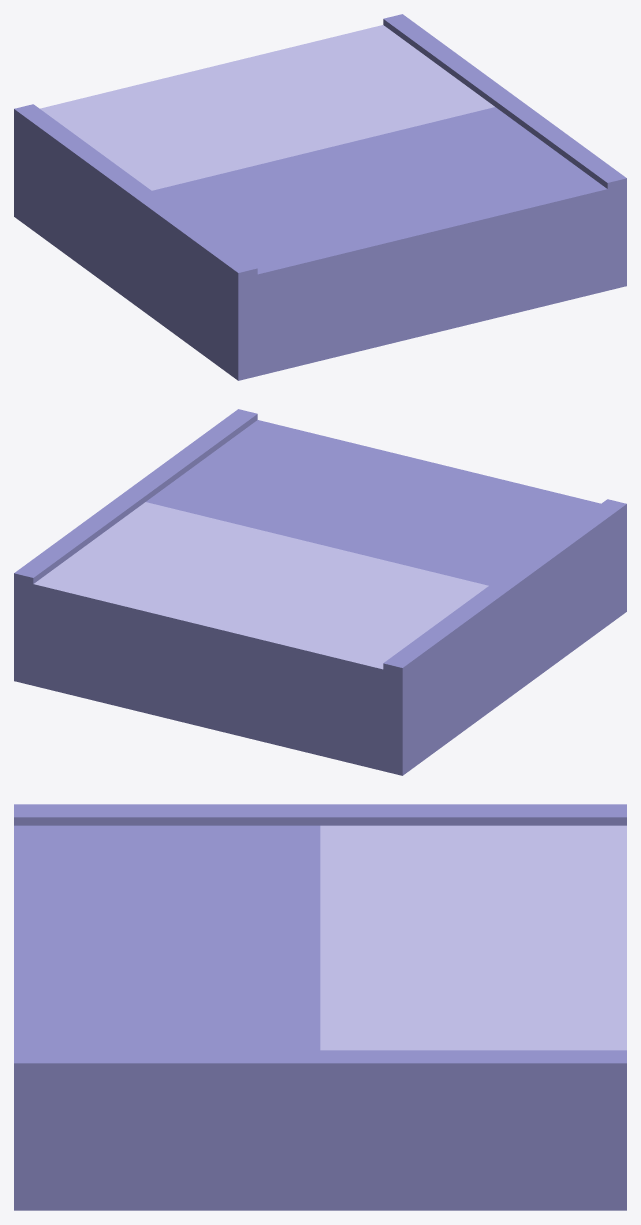
The model's file is road_purple_1.fbx.
3 views of the same model, one above another, from view 1: azimuth 30°, elevation 25°; view 2: azimuth 150°, elevation 25°; view 3: azimuth 270°, elevation 25° (orthographic). The views are drawn at different scales.
Parts seen in each view (by area): view 1: road_purple_1; view 2: road_purple_1; view 3: road_purple_1.
Part boxes in pixels (left/top/right/bottom): road_purple_1: left=14, top=14, right=626, bottom=380; road_purple_1: left=14, top=409, right=626, bottom=775; road_purple_1: left=14, top=804, right=626, bottom=1210.
Bounding box in the file's own units: 2 × 0.5304 × 2.
